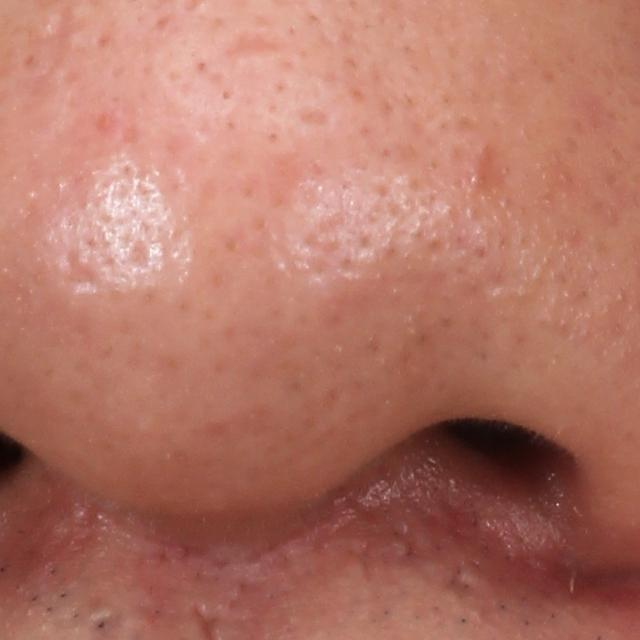atrophic_scar: (21, 0, 92, 86), (211, 24, 283, 65), (297, 107, 337, 132)
